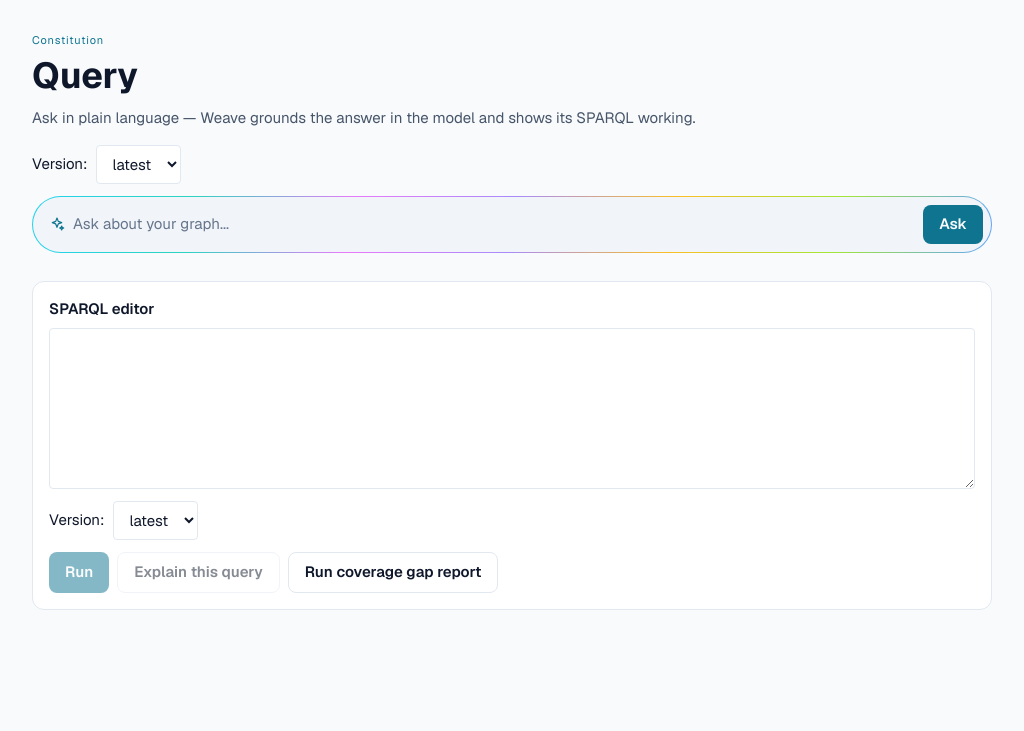
Scenario: QueryPage ask lifecycle › shows a grounded-in-version caption alongside the answer on success
The width and height of the screenshot is (1024, 731).
Type "What processes exist?" into the field named "Ask a question" at (494, 224), box [73,213,915,236]
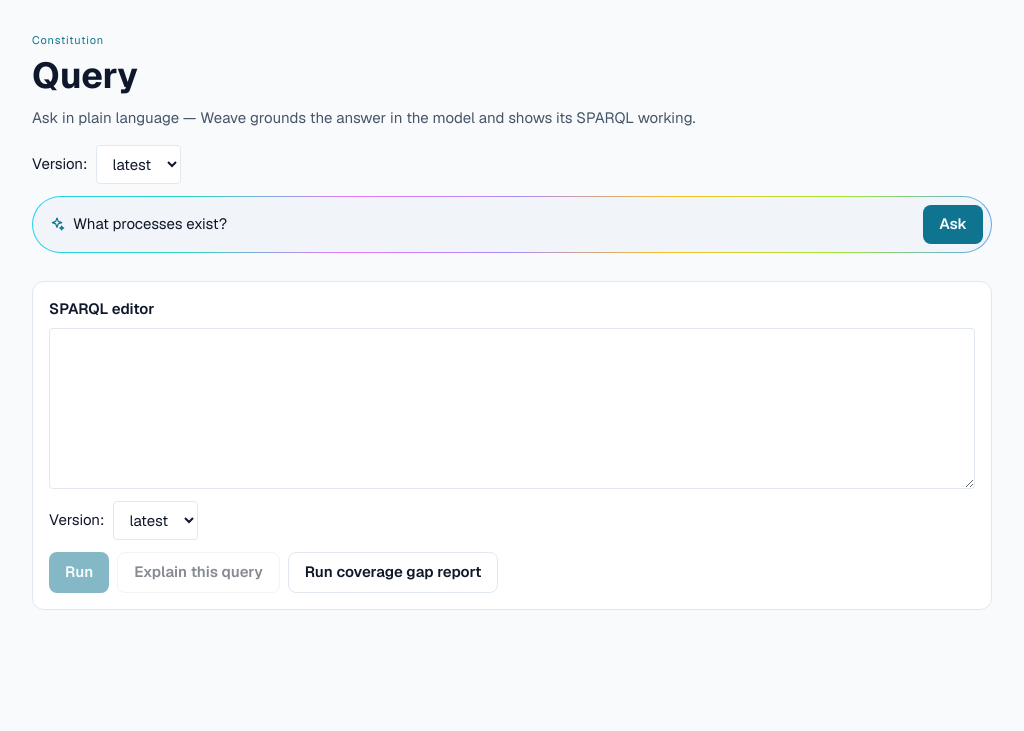
Click the button "Ask" at (953, 224), box [923,205,983,244]
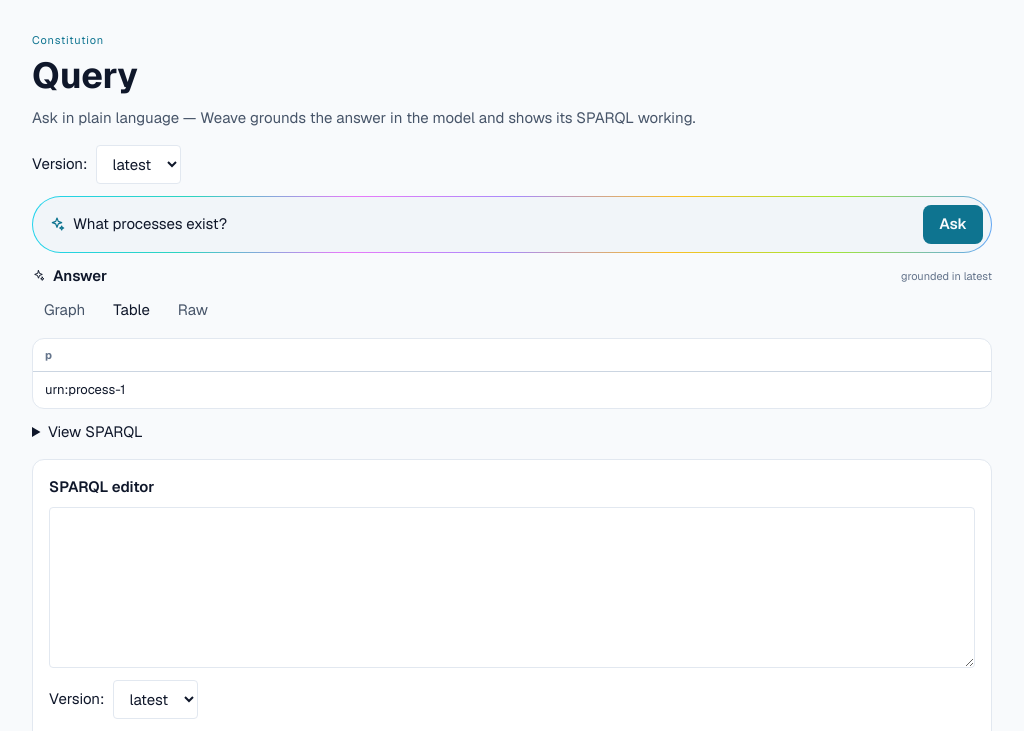
Expected: the element with test id "result-frame" is shown, [32,295,992,443]
Expected: the text "grounded in latest" is shown, [901,268,992,284]
